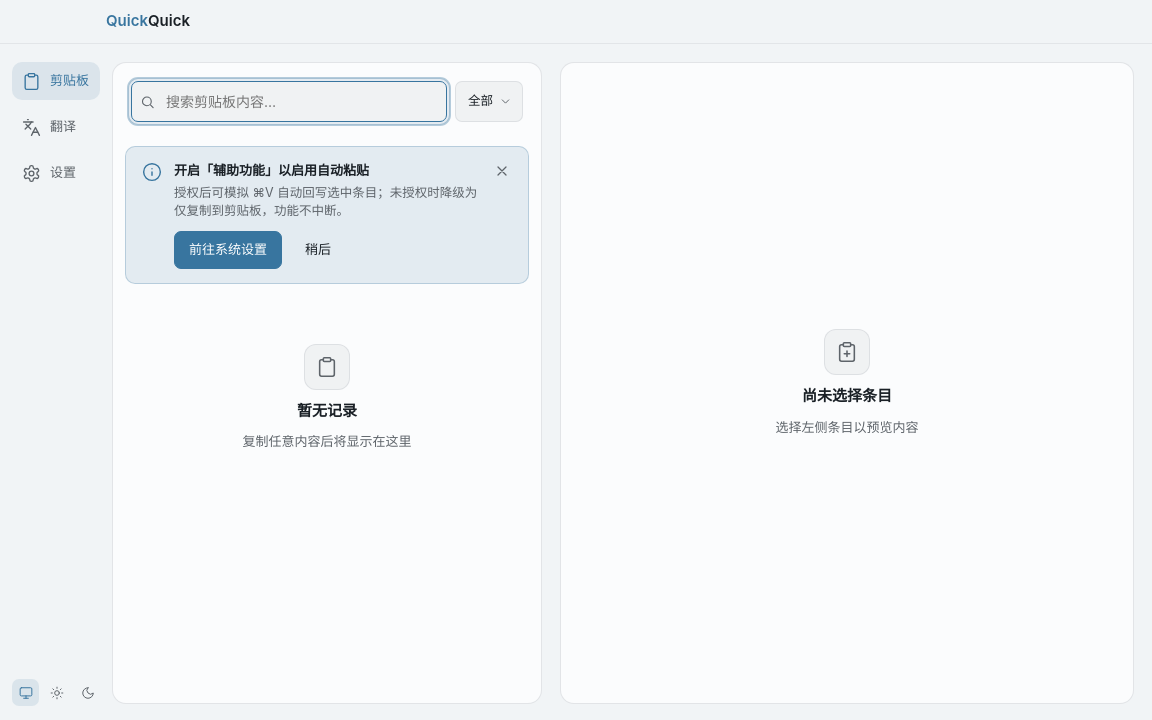
Test: app-shell › app-shell: 点击翻译后 page-translate 变为可见、page-clipboard 隐藏
The image size is (1152, 720).
Click the button "翻译" at {"x": 56, "y": 127}, box [12, 108, 100, 146]
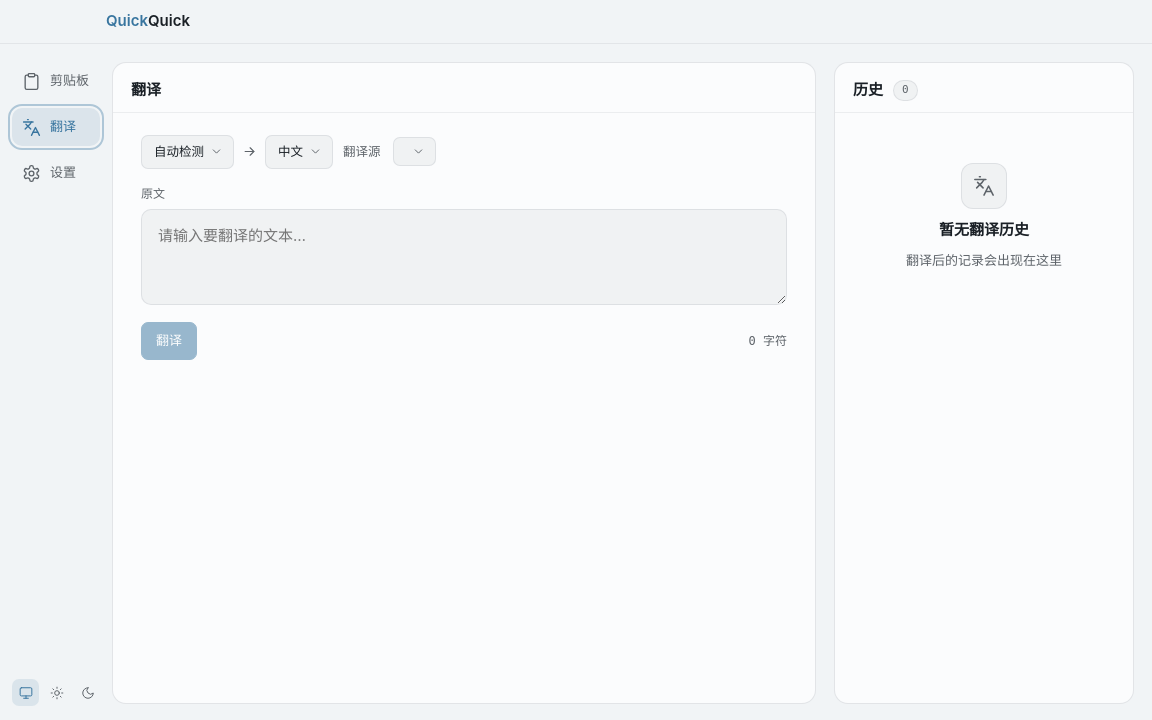
Result: the element with test id "page-translate" is shown
Result: the element with test id "page-clipboard" is gone
